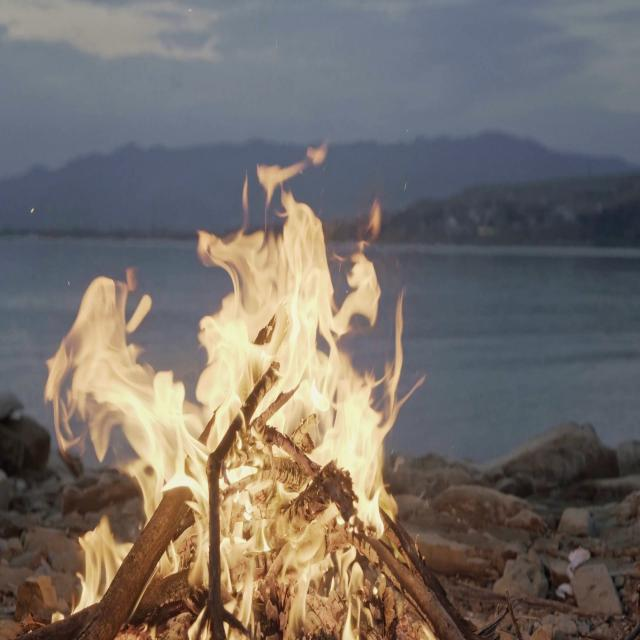Fire: (44, 183, 414, 640)
